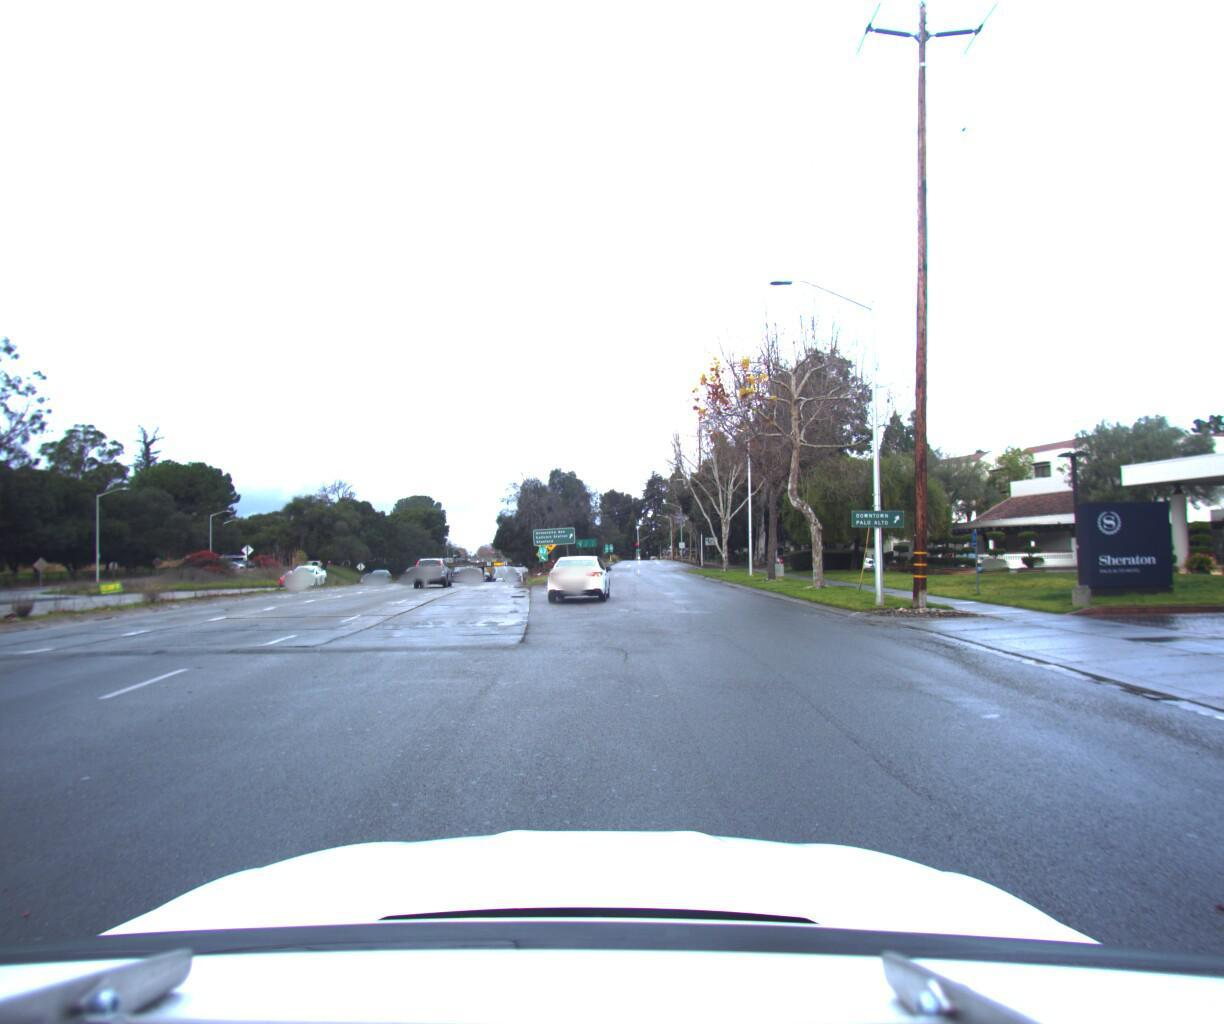car: (545, 553, 611, 603), (414, 553, 454, 588), (286, 564, 331, 590), (278, 563, 315, 583), (368, 560, 395, 578), (467, 561, 486, 577)
